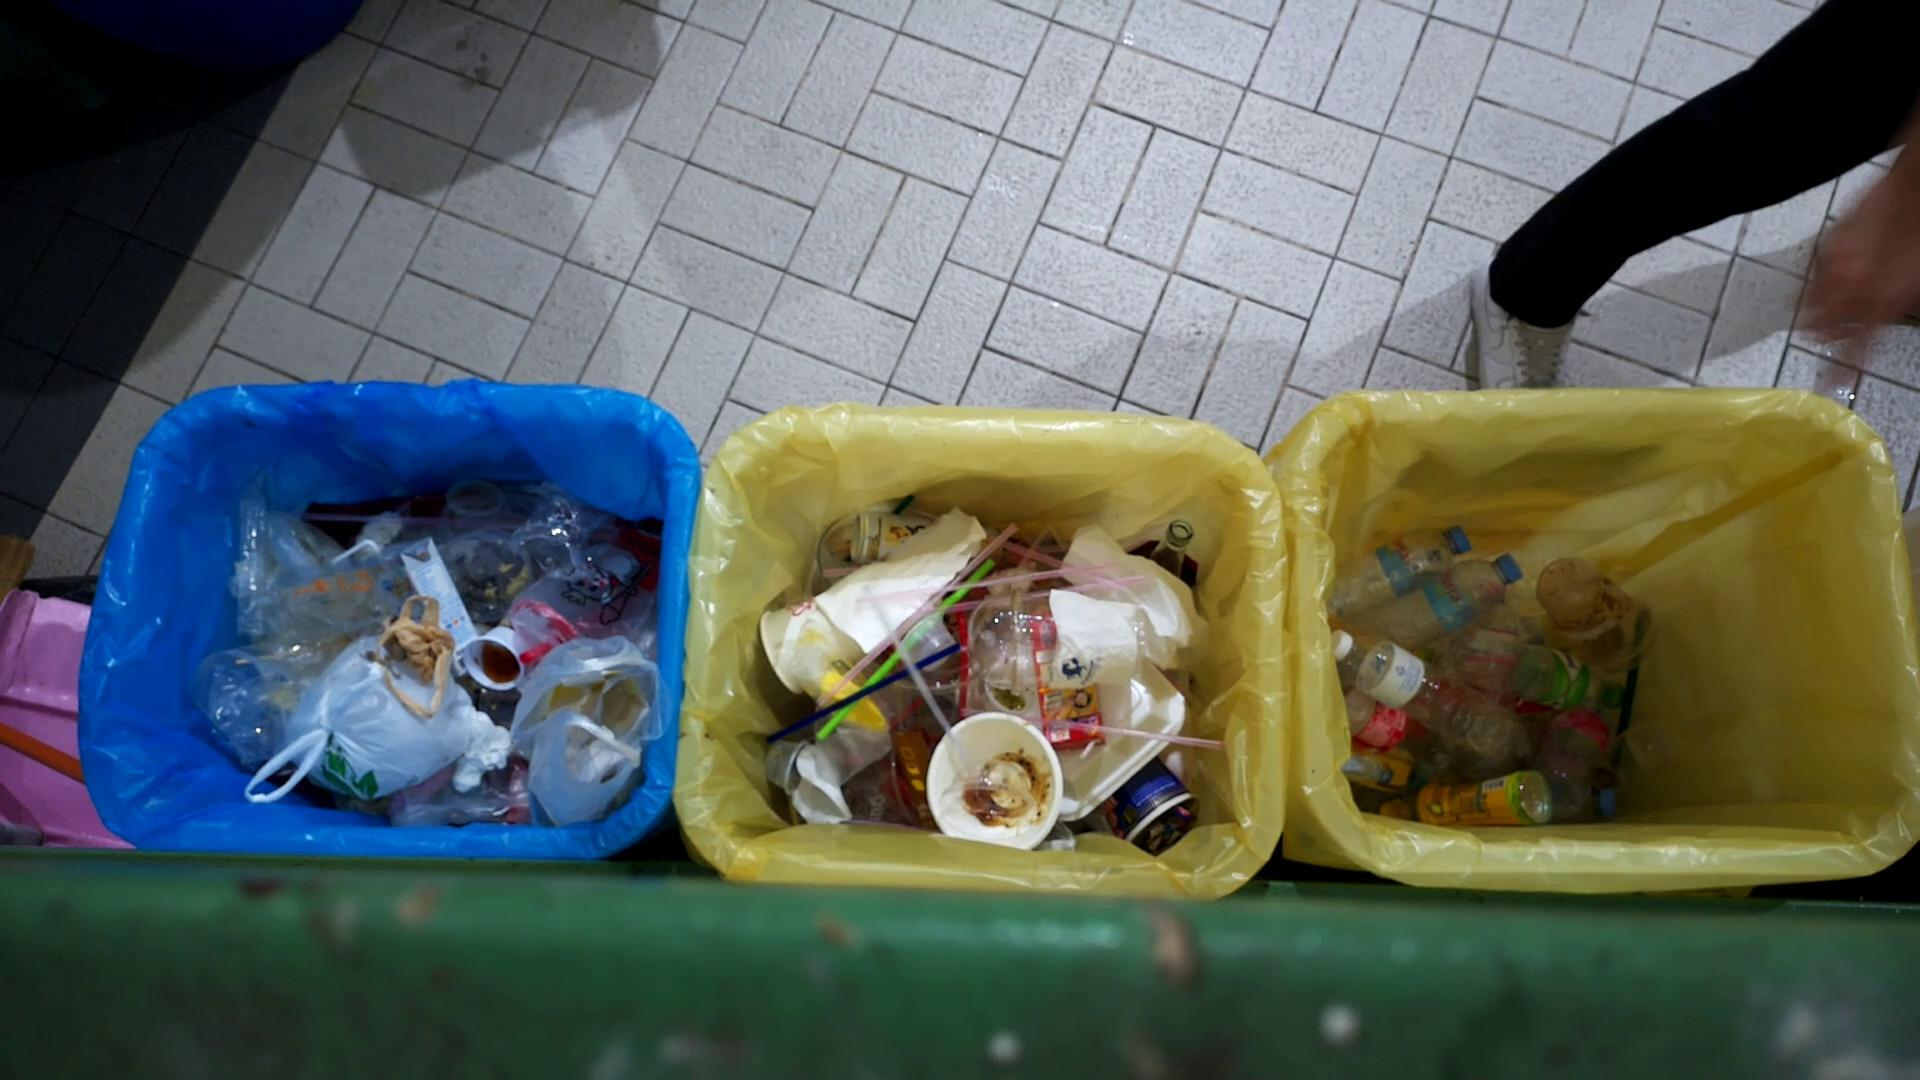filled plastic bag: (243, 630, 475, 806), (516, 634, 673, 829)
food container: (928, 715, 1067, 851), (464, 622, 526, 691)
milk carton: (364, 535, 477, 680)
plastic bottle: (1331, 628, 1530, 767), (1337, 553, 1524, 654), (1329, 522, 1474, 620), (1364, 771, 1556, 829)
plastic cup: (967, 591, 1147, 687), (1536, 556, 1658, 673), (934, 754, 1034, 829)
straw: (812, 524, 1015, 707), (818, 559, 996, 742), (861, 580, 984, 786), (760, 641, 972, 750), (903, 505, 1130, 595), (961, 711, 1220, 750)
tissue paper: (1051, 589, 1141, 691), (456, 704, 510, 796)
